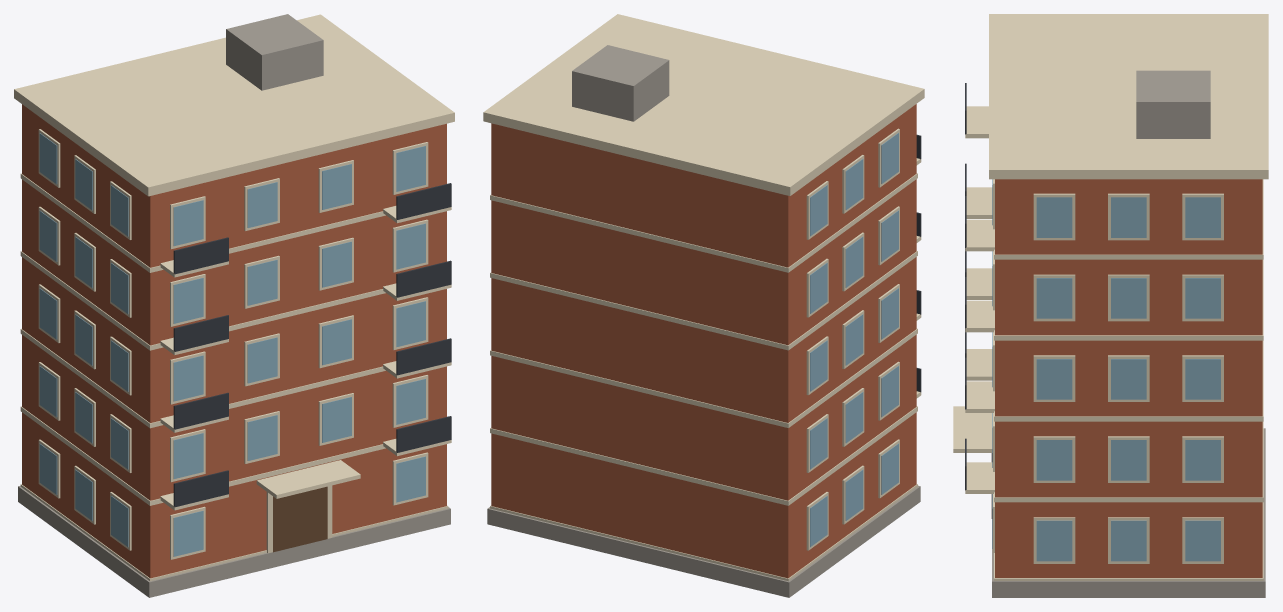
File: apartment_block.glb
3 views of the same model, side by side, from view 1: azimuth 30°, elevation 25°; view 2: azimuth 150°, elevation 25°; view 3: azimuth 270°, elevation 25° (orthographic). The views are drawn at different scales.
Visible parts, largest first — view 1: apartment_block; view 2: apartment_block; view 3: apartment_block.
Boxes of the visible parts, box(x1,y1,x2,y2) form: apartment_block: box(14, 14, 454, 597); apartment_block: box(483, 14, 924, 597); apartment_block: box(953, 14, 1268, 597).
Bounding box in the file's own units: 12.4 × 17.3 × 10.6.
